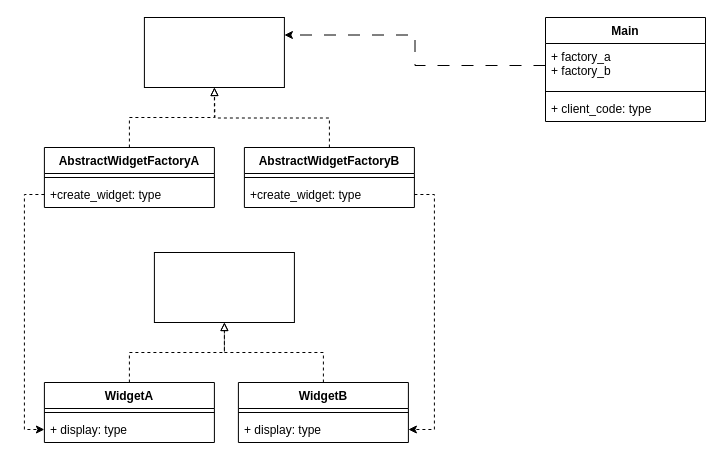
Image size: 724x463. Some labels were removed from this diagram. The shapes that lost their labels are listed below. From the top down, each one's box as (x1, y1, x2, y2) in pixels, then its label:
(143, 16, 284, 88): «interface» AbstractWidgetFactory + create_widget
(153, 252, 294, 322): «interface» AbstractWidget + display
